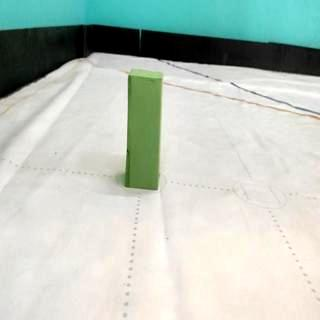greenbox: (124, 66, 167, 192)
